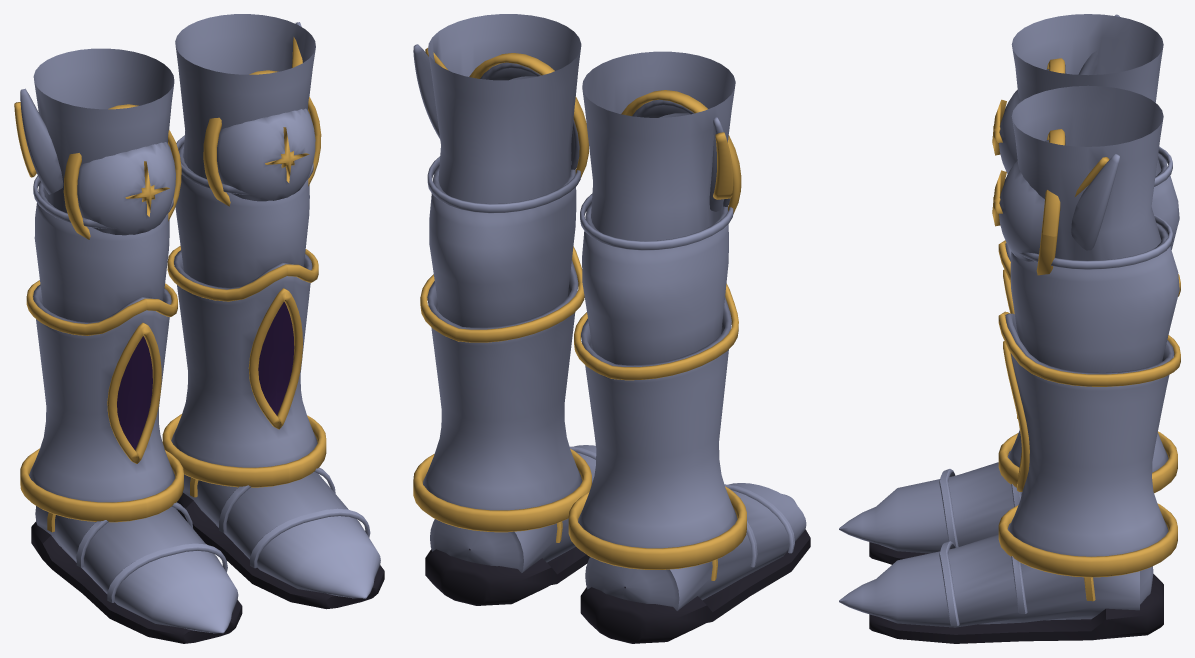
File: f_cosmic.glb
3 views of the same model, side by side, from view 1: azimuth 30°, elevation 25°; view 2: azimuth 150°, elevation 25°; view 3: azimuth 270°, elevation 25° (orthographic). The views are drawn at different scales.
Parts seen in each view (by area): view 1: LegR_Boot, LegL_Boot, LegR_BootFoot, LegL_BootFoot; view 2: LegL_Boot, LegR_Boot, LegR_BootFoot, LegL_BootFoot; view 3: LegL_Boot, LegL_BootFoot, LegR_Boot, LegR_BootFoot.
Boxes of the visible parts, left/top/right/bottom form: LegR_Boot: left=14, top=48, right=183, bottom=522; LegL_Boot: left=162, top=14, right=326, bottom=487; LegR_BootFoot: left=31, top=502, right=242, bottom=643; LegL_BootFoot: left=176, top=467, right=384, bottom=609; LegL_Boot: left=413, top=14, right=591, bottom=532; LegR_Boot: left=568, top=51, right=746, bottom=569; LegR_BootFoot: left=580, top=483, right=810, bottom=643; LegL_BootFoot: left=425, top=445, right=596, bottom=605; LegL_Boot: left=992, top=85, right=1180, bottom=577; LegL_BootFoot: left=839, top=523, right=1163, bottom=643; LegR_Boot: left=992, top=14, right=1180, bottom=493; LegR_BootFoot: left=839, top=451, right=1022, bottom=564.
Size of the model in its own units: 0.3929 by 0.6306 by 0.3875.
